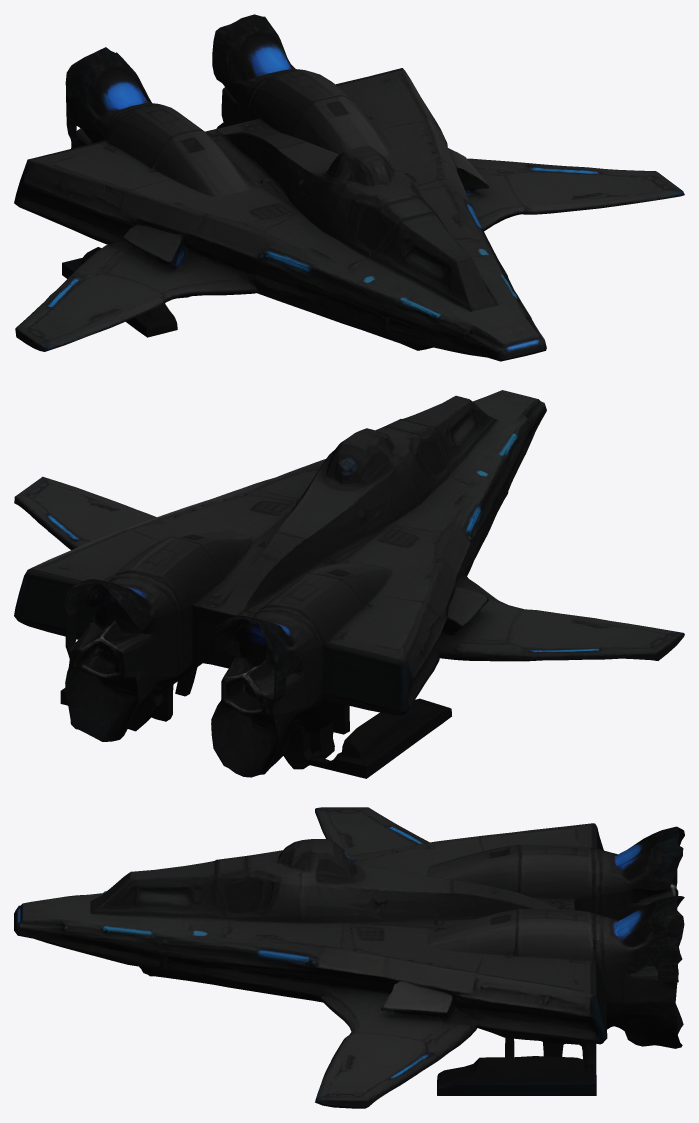
The model's file is ship.glb.
The picture shows the model from 3 angles, top to bottom: view 1: azimuth 30°, elevation 25°; view 2: azimuth 150°, elevation 25°; view 3: azimuth 270°, elevation 25°; orthographic projection. The views are drawn at different scales.
Parts seen in each view (by area): view 1: world; view 2: world; view 3: world.
Part boxes in pixels (bbox=[...]): world: bbox=[14, 14, 684, 361]; world: bbox=[14, 390, 684, 778]; world: bbox=[14, 807, 684, 1108].
Bounding box in the file's own units: 1 × 0.3102 × 0.9663.
1 material, 1 textured.
